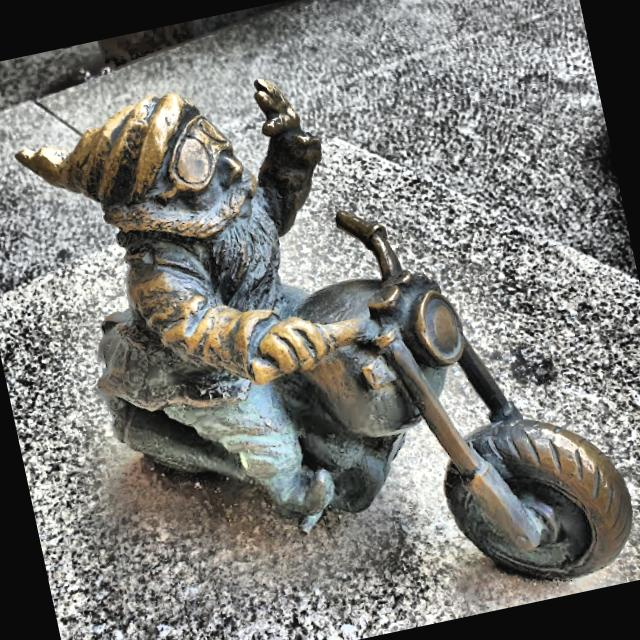Wentyl: (18, 79, 632, 578)
